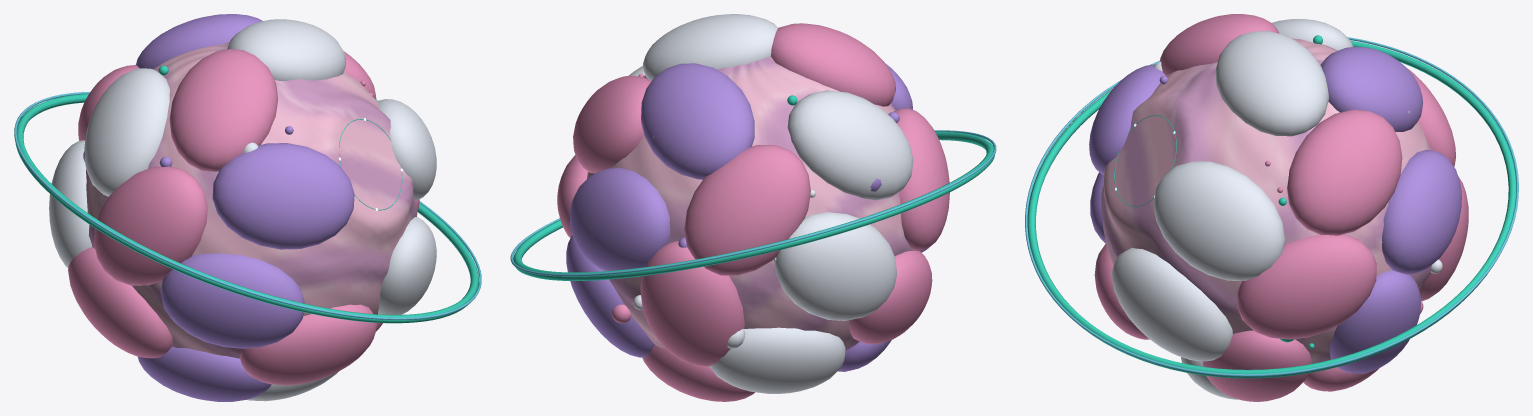
Rendered from planet-lips.glb.
3 renders of one model, left to right at view 1: azimuth 30°, elevation 25°; view 2: azimuth 150°, elevation 25°; view 3: azimuth 270°, elevation 25°, orthographic.
Visible parts, largest first — view 1: MyoSkills lips / Blush ceramic, MyoSkills lips / Lavender pearl, MyoSkills lips / Sculpted pearl · vertex colour, MyoSkills lips / Ivory ceramic, MyoSkills lips / Mint opaline resin, MyoSkills lips / Ice blue opal; view 2: MyoSkills lips / Blush ceramic, MyoSkills lips / Ivory ceramic, MyoSkills lips / Lavender pearl, MyoSkills lips / Sculpted pearl · vertex colour, MyoSkills lips / Mint opaline resin, MyoSkills lips / Ice blue opal; view 3: MyoSkills lips / Blush ceramic, MyoSkills lips / Ivory ceramic, MyoSkills lips / Sculpted pearl · vertex colour, MyoSkills lips / Lavender pearl, MyoSkills lips / Mint opaline resin, MyoSkills lips / Ice blue opal.
Boxes of the visible parts, x1,y1,x2,y2 form: MyoSkills lips / Blush ceramic: (68,49,419,385); MyoSkills lips / Lavender pearl: (83,14,354,401); MyoSkills lips / Sculpted pearl · vertex colour: (86,42,417,358); MyoSkills lips / Ivory ceramic: (49,19,436,401); MyoSkills lips / Mint opaline resin: (15,65,478,323); MyoSkills lips / Ice blue opal: (14,91,481,319); MyoSkills lips / Blush ceramic: (557,23,949,401); MyoSkills lips / Ivory ceramic: (629,14,913,393); MyoSkills lips / Lavender pearl: (566,63,928,371); MyoSkills lips / Sculpted pearl · vertex colour: (587,56,912,350); MyoSkills lips / Mint opaline resin: (513,95,994,280); MyoSkills lips / Ice blue opal: (510,130,996,276); MyoSkills lips / Blush ceramic: (1094,14,1468,401); MyoSkills lips / Ivory ceramic: (1112,19,1442,399); MyoSkills lips / Sculpted pearl · vertex colour: (1101,38,1431,363); MyoSkills lips / Lavender pearl: (1089,47,1461,373); MyoSkills lips / Mint opaline resin: (1027,35,1516,378); MyoSkills lips / Ice blue opal: (1025,37,1518,376).
Size of the model in its own units: 2.79 by 2.31 by 2.92.
